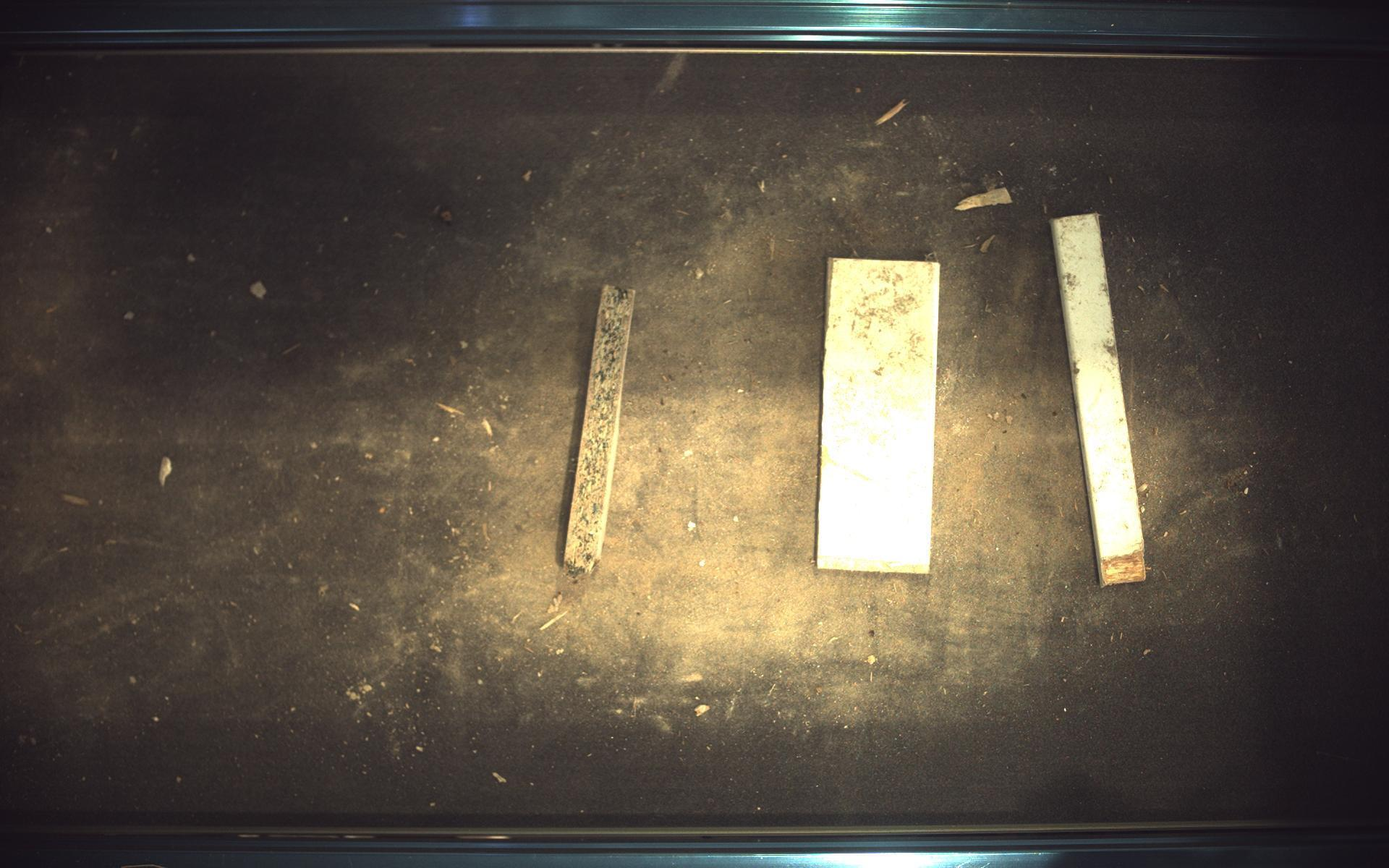wood: (818, 258, 942, 574), (1053, 213, 1149, 586), (564, 285, 636, 578)
